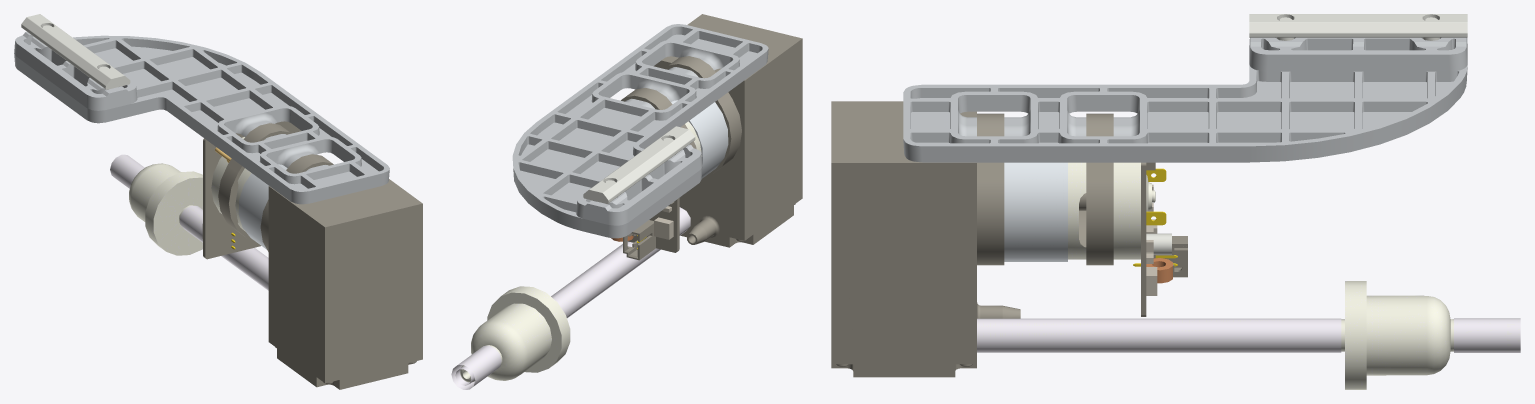
Rendered from vacuum_pump_v19.glb.
The picture shows the model from 3 angles, left to right: view 1: azimuth 30°, elevation 25°; view 2: azimuth 150°, elevation 25°; view 3: azimuth 270°, elevation 25°; orthographic projection. The views are drawn at different scales.
Parts seen in each view (by area): view 1: Lower Vacuum Tube; view 2: Lower Vacuum Tube; view 3: Lower Vacuum Tube.
Boxes of the visible parts, bbox=[...] form: Lower Vacuum Tube: bbox=[14, 14, 422, 389]; Lower Vacuum Tube: bbox=[451, 14, 802, 389]; Lower Vacuum Tube: bbox=[831, 14, 1520, 389].
Bounding box in the file's own units: 0.0693 × 0.0904 × 0.1892.
Materials: 1 (1 with a texture image).
